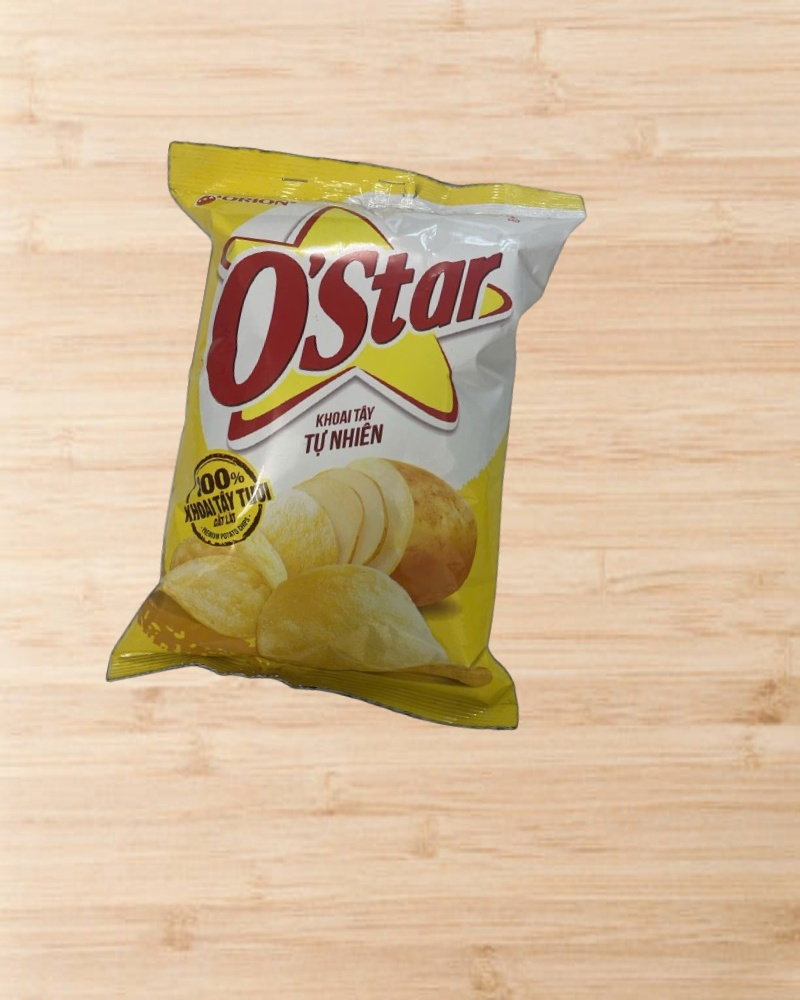O'star: (78, 124, 610, 753)
